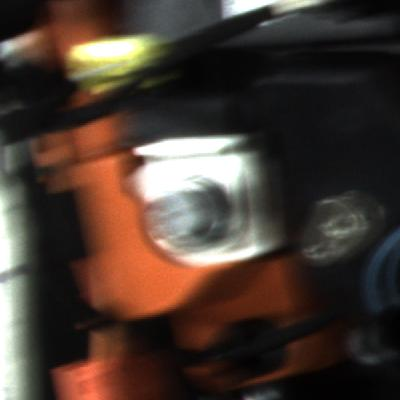nut_b: (135, 171, 238, 253)
